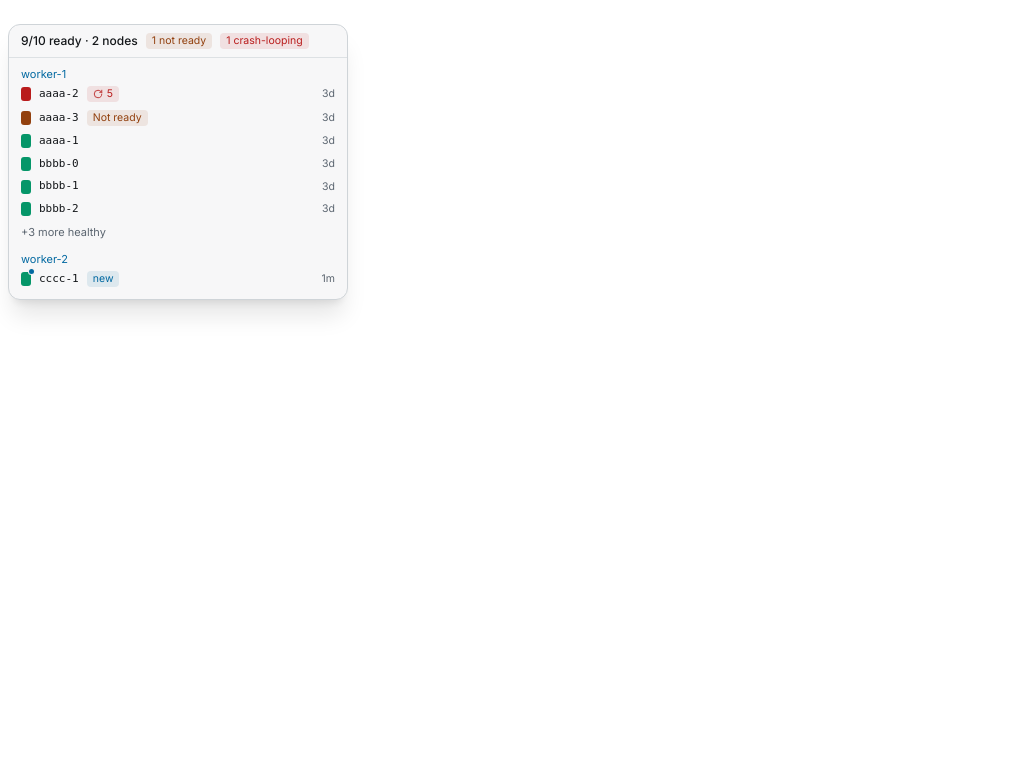
Scenario: PodRail and PodPopover › the popover opens as a named dialog on the body with the summary, node groups and "+N more healthy"
Check: the dialog named "Pods of api" shows "9/10 ready · 2 nodes", box [8,24,348,300]
Check: the dialog named "Pods of api" shows "1 not ready", box [8,24,348,300]
Click the button "+3 more healthy".
click(63, 232)  # box [17,221,110,243]
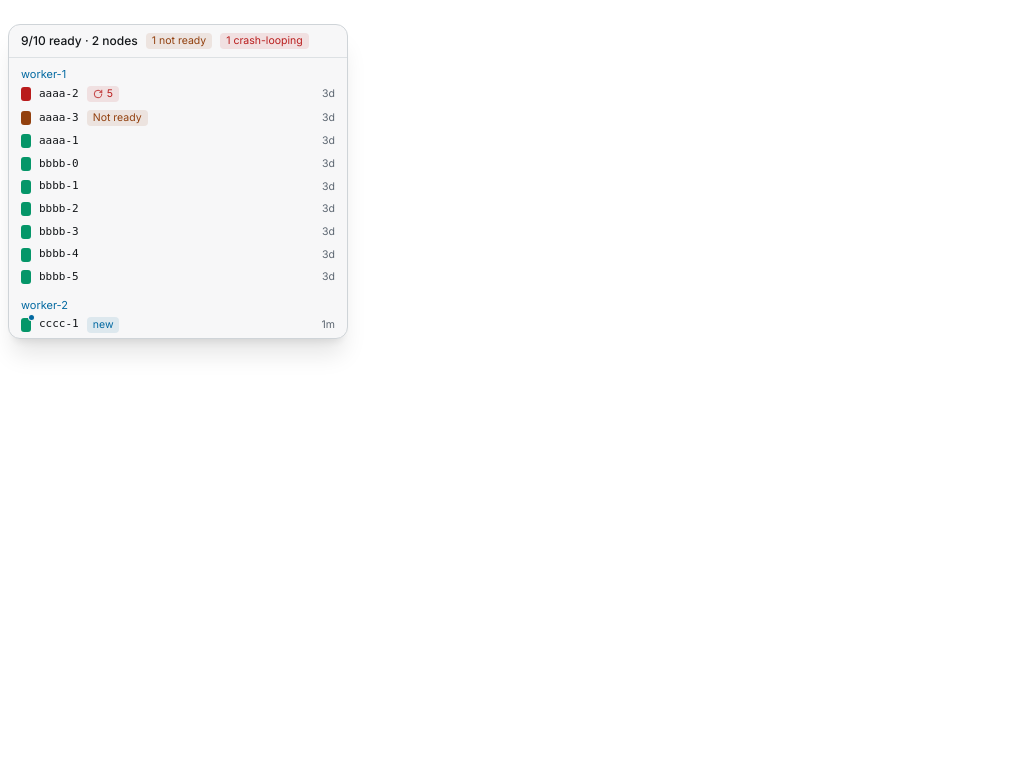
Check: the number of elements with test id "pod-row" is 10
